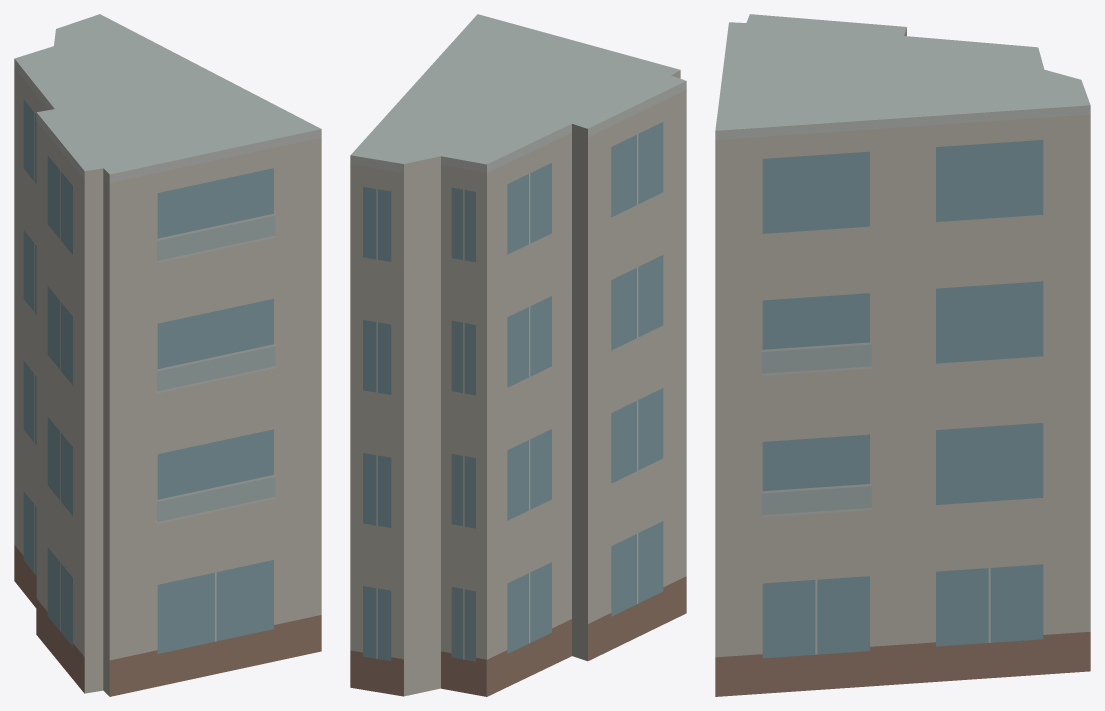
File: survey-upis-33008996.glb
3 renders of one model, left to right at view 1: azimuth 30°, elevation 25°; view 2: azimuth 150°, elevation 25°; view 3: azimuth 270°, elevation 25°, orthographic. The views are drawn at different scales.
Parts seen in each view (by area): view 1: survey-upis-33008996.tmp; view 2: survey-upis-33008996.tmp; view 3: survey-upis-33008996.tmp.
Boxes of the visible parts, bbox=[...] form: survey-upis-33008996.tmp: bbox=[14, 14, 321, 696]; survey-upis-33008996.tmp: bbox=[350, 14, 686, 696]; survey-upis-33008996.tmp: bbox=[715, 14, 1090, 696].
Size of the model in its own units: 6.65 by 15 by 9.03.
